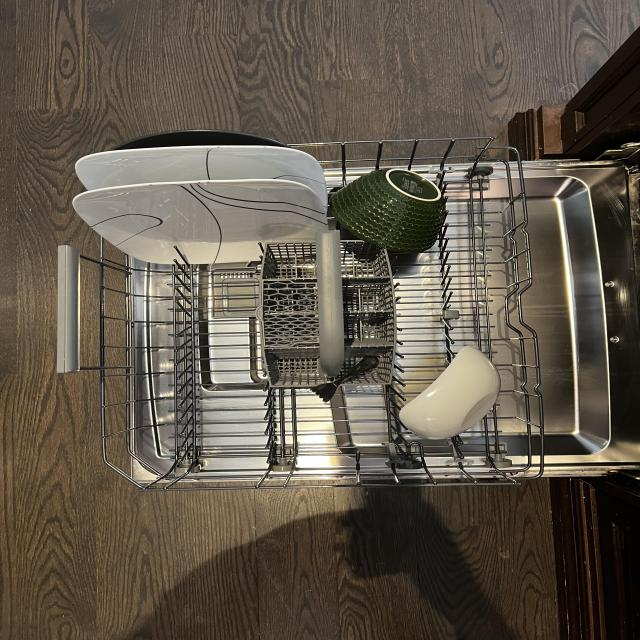Bowl: (398, 342, 502, 439), (331, 168, 448, 254)
Fork: (304, 355, 378, 405)
Plate: (70, 178, 336, 265)
